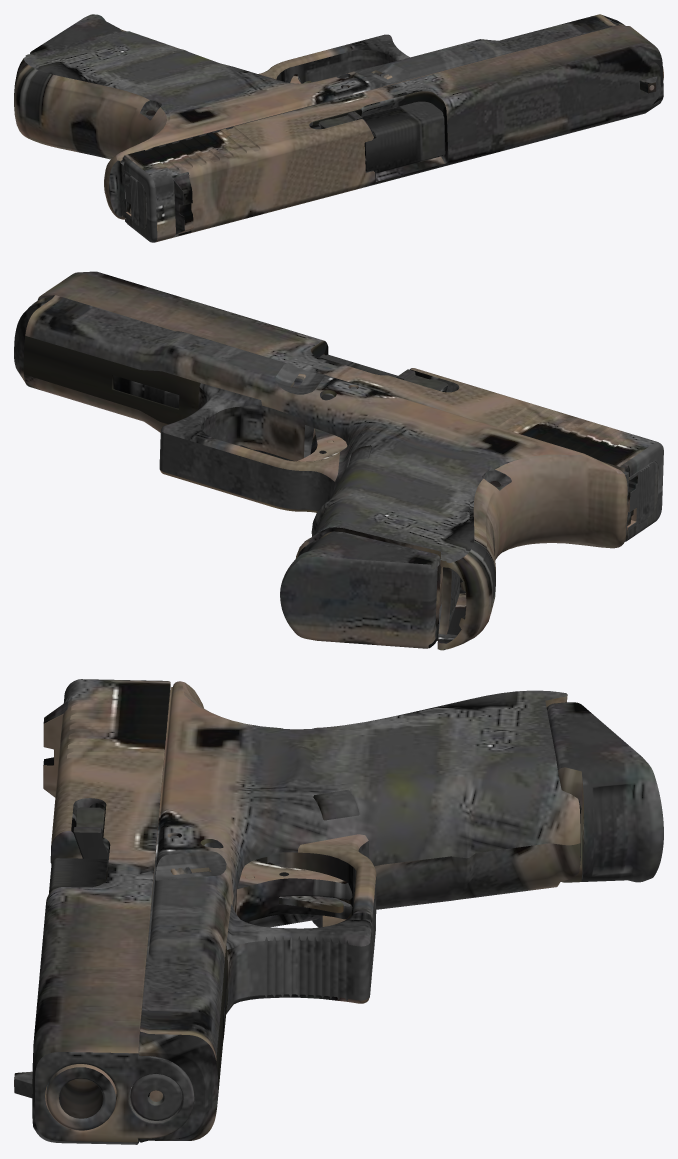
Rendered from w_glock18.glb.
3 views of the same model, one above another, from view 1: azimuth 30°, elevation 25°; view 2: azimuth 150°, elevation 25°; view 3: azimuth 270°, elevation 25° (orthographic). The views are drawn at different scales.
Parts seen in each view (by area): view 1: w_glock18; view 2: w_glock18; view 3: w_glock18.
Boxes of the visible parts, x1=… form: w_glock18: x1=14, y1=14, x2=663, y2=242; w_glock18: x1=14, y1=271, x2=663, y2=650; w_glock18: x1=14, y1=679, x2=663, y2=1144.
Size of the model in its own units: 0.3238 by 0.0543 by 0.2185.
Materials: 1 (1 with a texture image).
